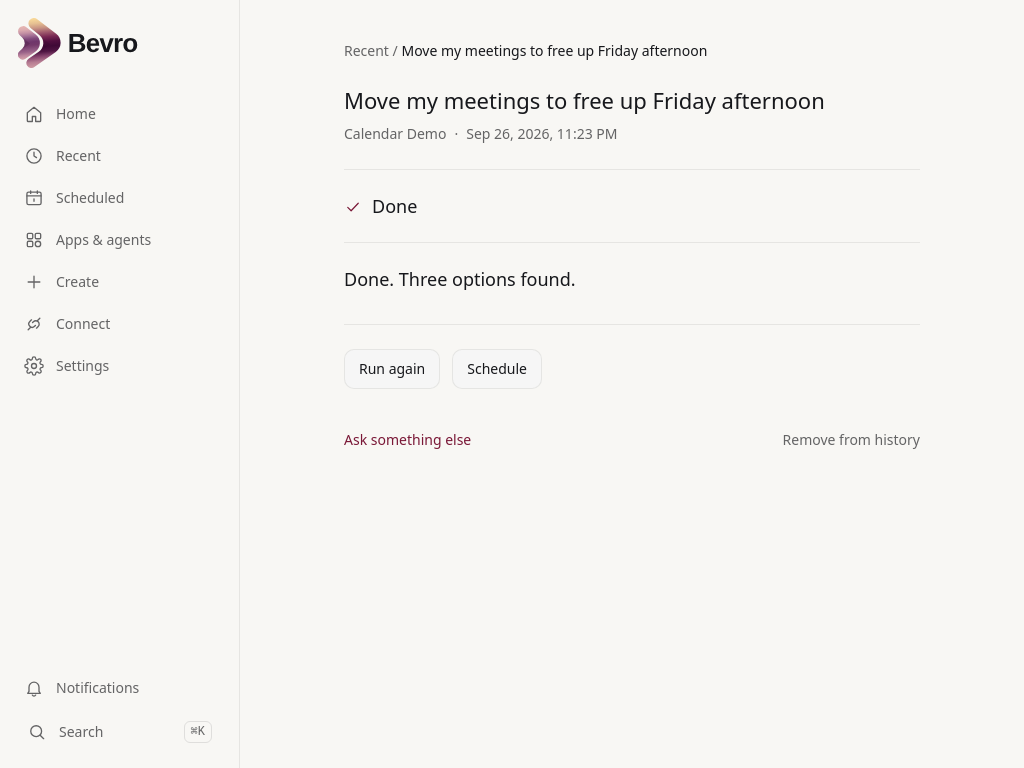
Test: a finished task can be scheduled in the person's own words
Step 1. Click the button "Schedule" → (497, 369), box [452,349,542,389]
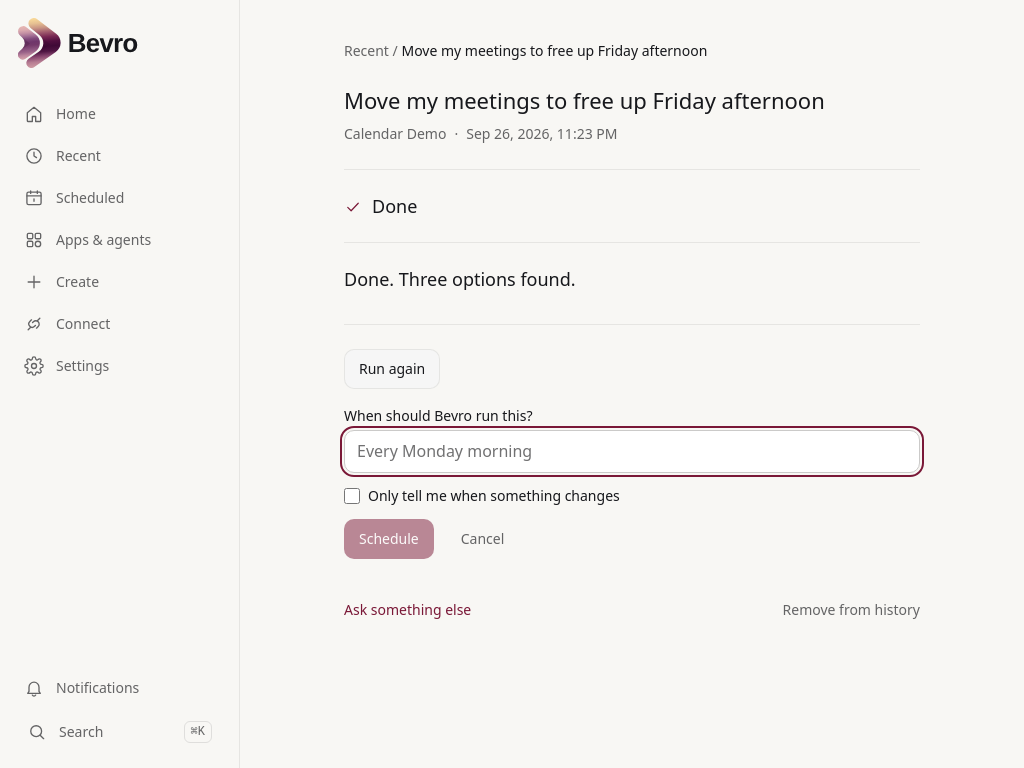
Step 2. Type "every Monday morning" into the field labelled "When should Bevro run this?" → (632, 452), box [344,430,920,473]
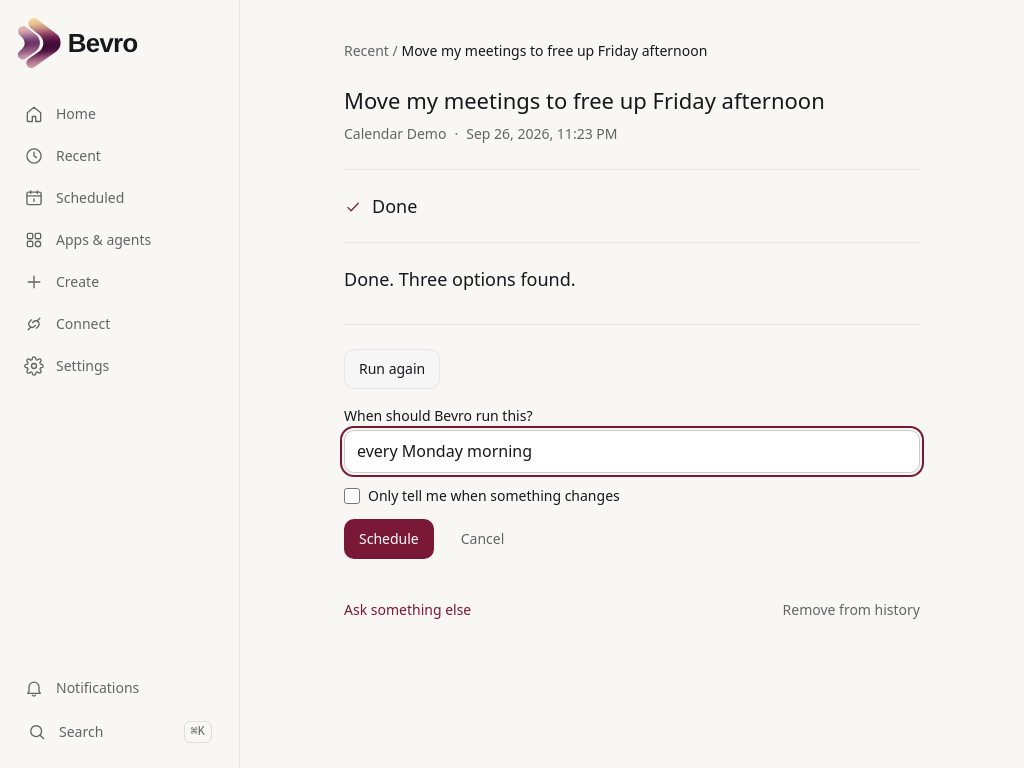
Step 3. Click the checkbox labelled "Only tell me when something changes" → (352, 496), box [344,488,360,504]
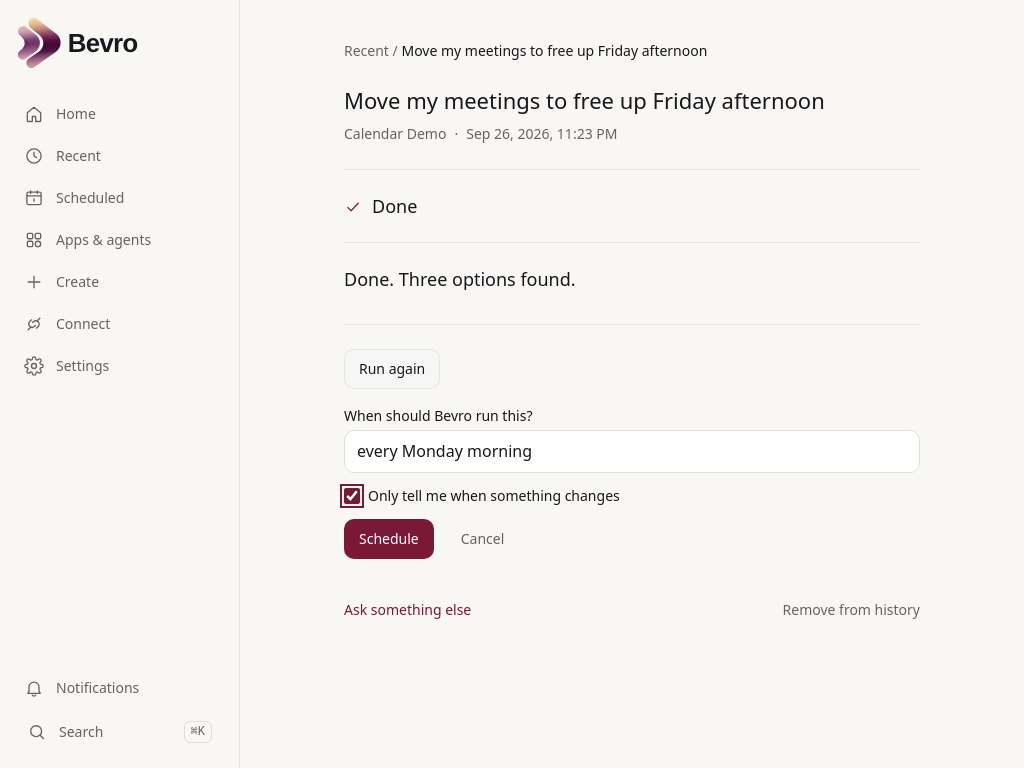
Step 4. Click the button "Schedule" → (389, 539), box [344,519,434,559]
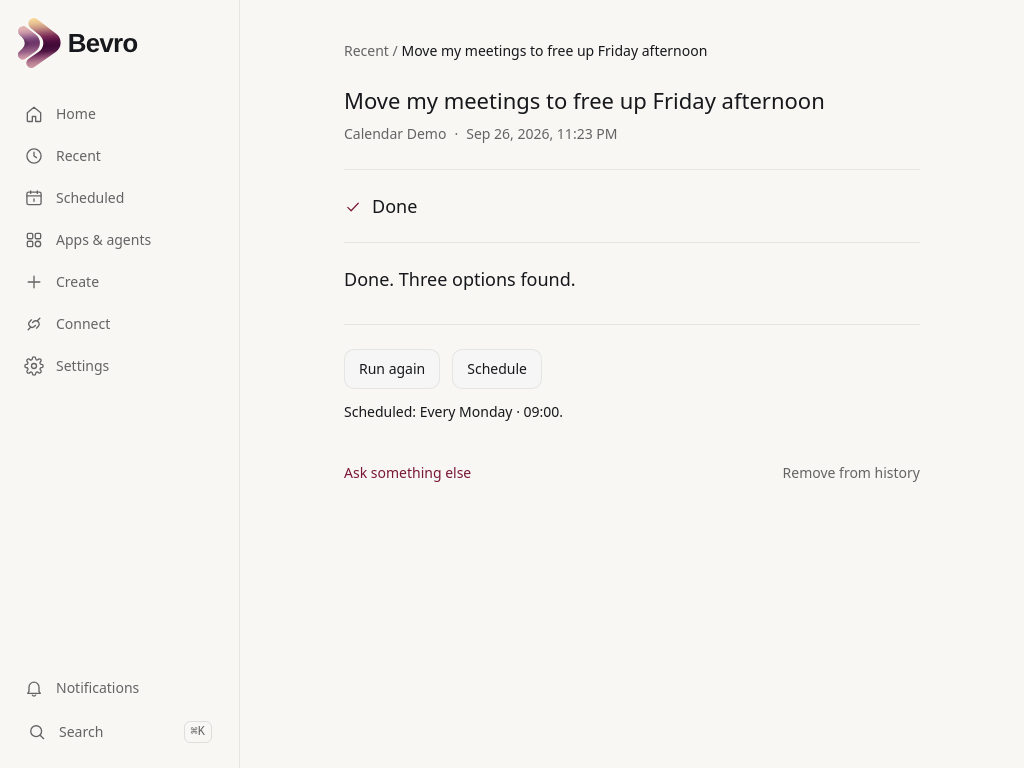
Expected: the text "Scheduled: Every Monday · 09:00." is shown, [344,402,563,421]
